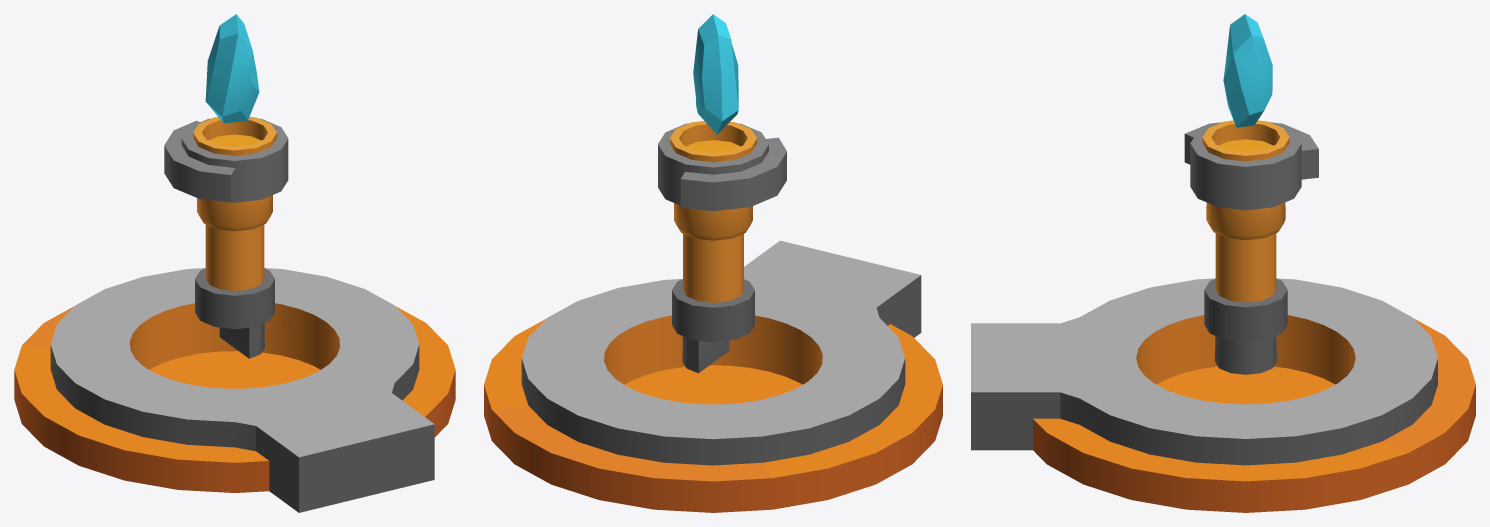
The model's file is Tp Tower Lv1.fbx.
3 renders of one model, left to right at view 1: azimuth 30°, elevation 25°; view 2: azimuth 150°, elevation 25°; view 3: azimuth 270°, elevation 25°, orthographic. The views are drawn at different scales.
Visible parts, largest first — view 1: Circle.016, Boru Lv1, Crystal Lv1; view 2: Circle.016, Boru Lv1, Crystal Lv1; view 3: Circle.016, Boru Lv1, Crystal Lv1.
Part boxes in pixels (<box>): Circle.016: <box>14,268,455,512</box>; Boru Lv1: <box>164,117,288,358</box>; Crystal Lv1: <box>205,14,259,123</box>; Circle.016: <box>484,240,942,512</box>; Boru Lv1: <box>658,121,786,373</box>; Crystal Lv1: <box>693,14,738,134</box>; Circle.016: <box>971,278,1475,512</box>; Boru Lv1: <box>1184,120,1318,374</box>; Crystal Lv1: <box>1223,14,1272,127</box>.
Bounding box in the file's own units: 336 × 324 × 369.
